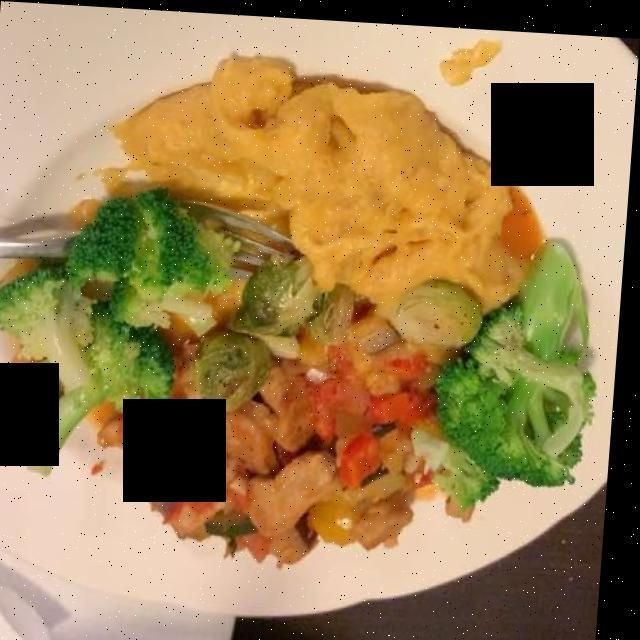broccoli: (5, 169, 599, 499)
brussel-sprouts: (170, 241, 507, 424)
mashed-potatoes: (109, 48, 516, 314)
ratatouille: (110, 309, 473, 560)
